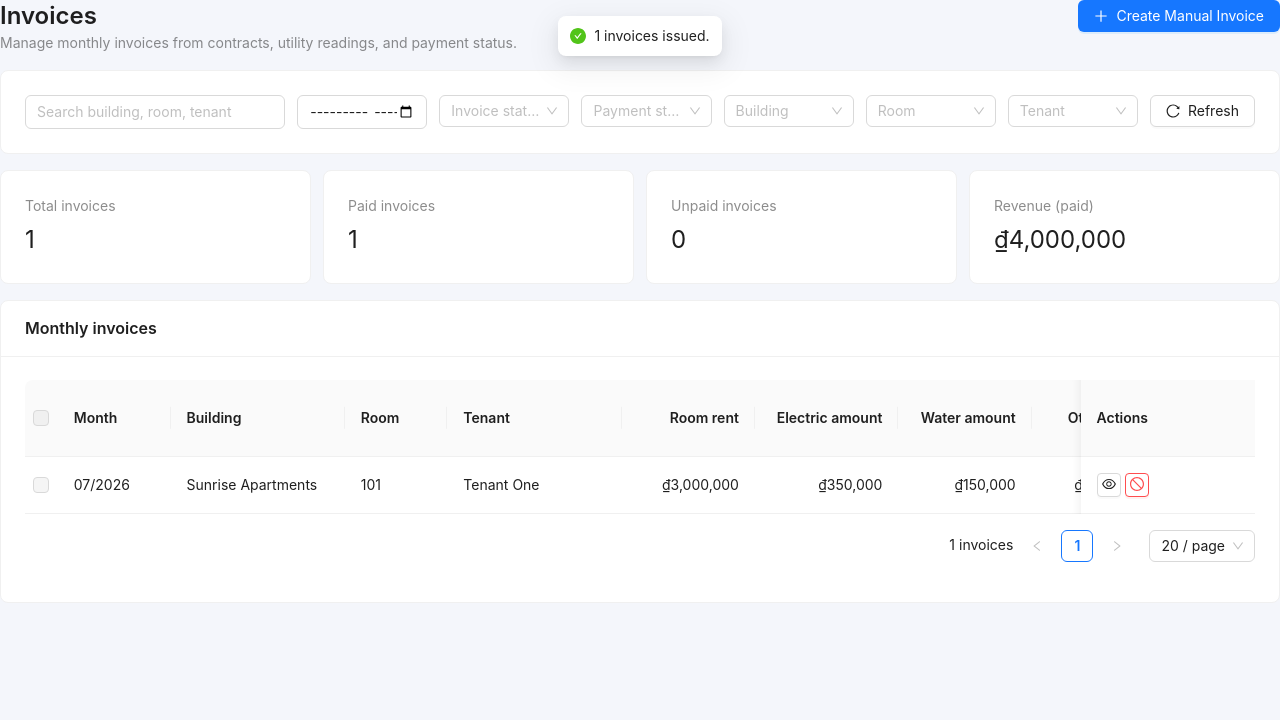
Scenario: InvoicesPage invoice deletion › confirms a pending tenant payment proof and completes the invoice
Click the button named "View invoice" at [1108, 485], box [1096,473,1120,497]
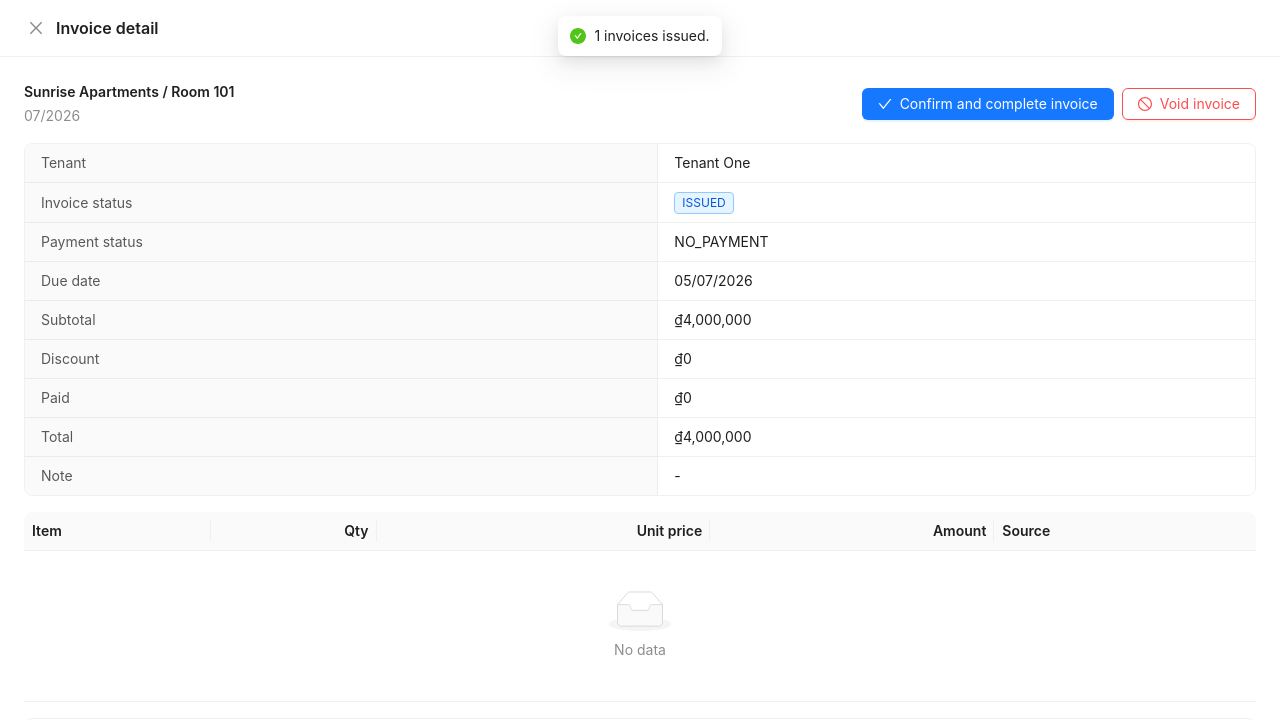
Click the button "Confirm and complete invoice" at [988, 104], box [862,88,1114,120]
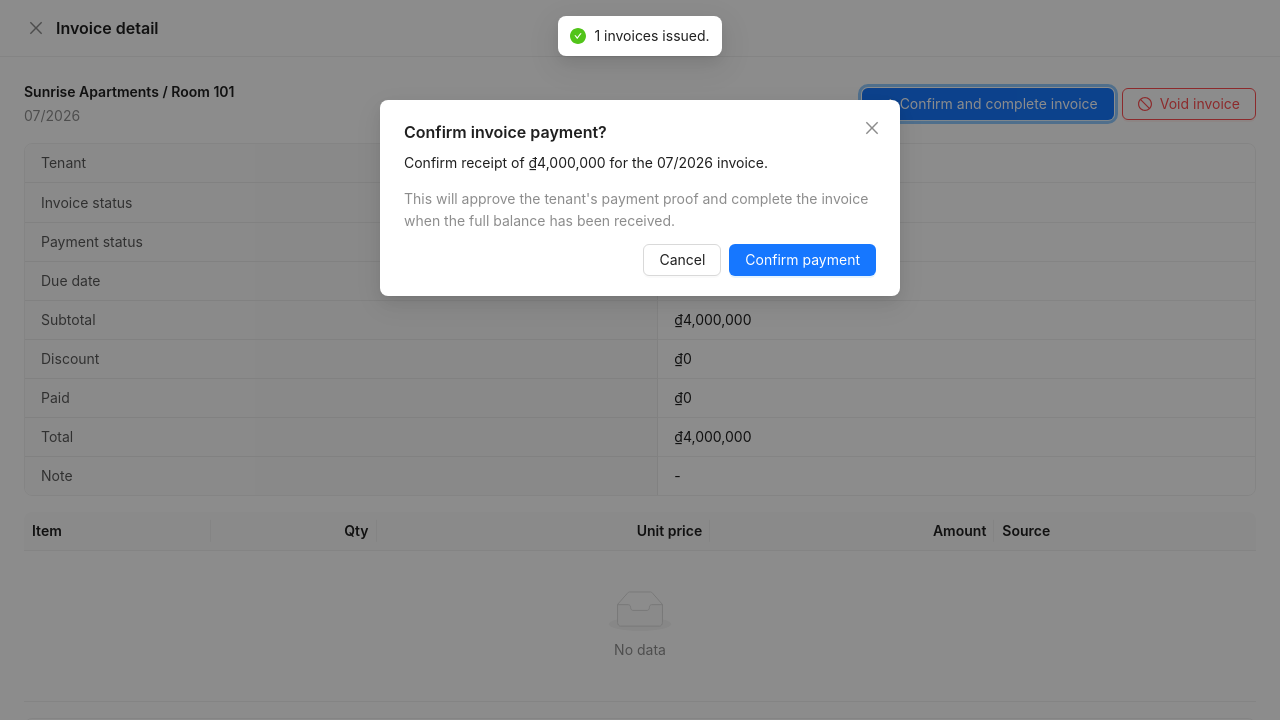
Expected: the text "Confirm receipt of ₫4,000,000 for the 07/2026 invoice." is shown, [404,154,768,171]
Click the button "Confirm payment" at [803, 260], box [729,244,876,276]
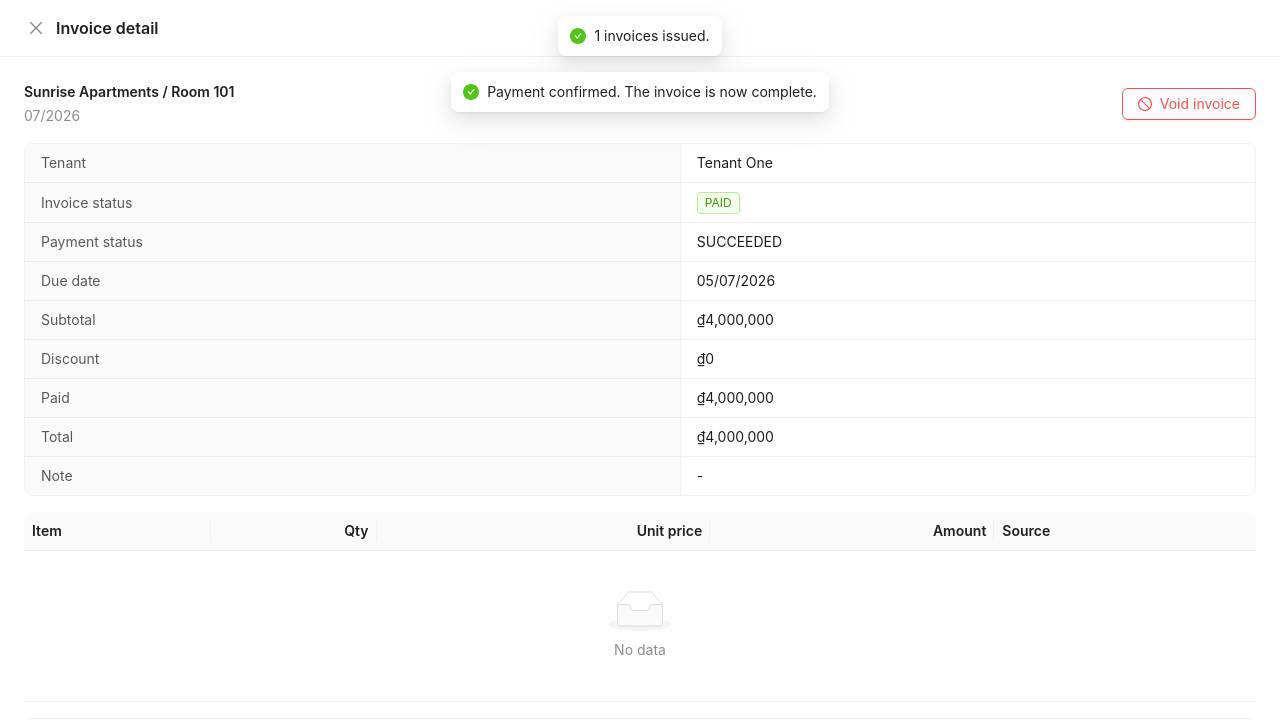
Expected: the button "Confirm and complete invoice" is gone
